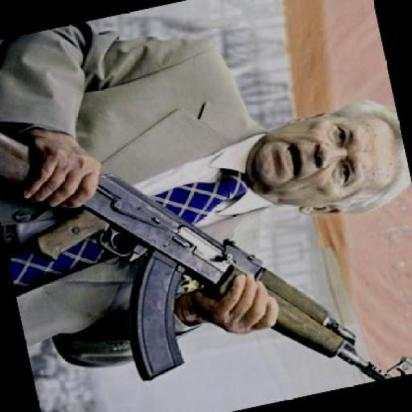Gun: (0, 24, 410, 412)
